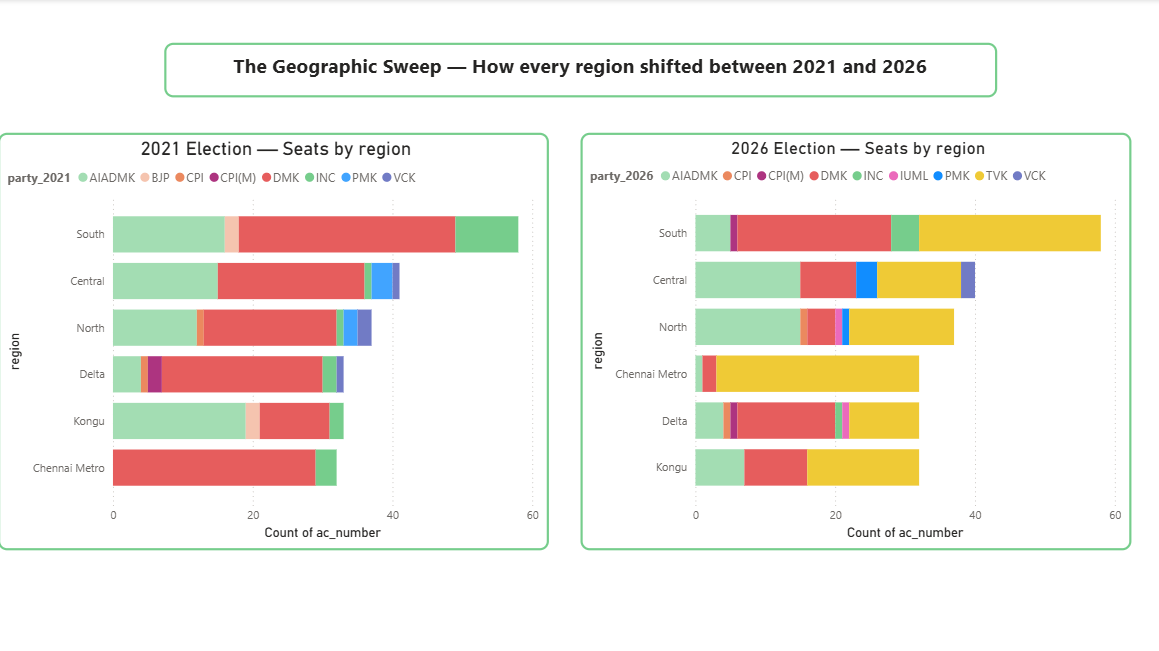

The dashboard page shown, as its layout file describes it:
{"tool":"powerbi","page":{"name":"Geographic Sweep ","canvas":[1280,720],"ordinal":2},"visuals":[{"type":"barChart","title":"2026 Election — Seats by region","fields":{"Category":["tn_master.region"],"Y":["Count(tn_master.ac_number)"],"Series":["tn_master.party_2026"]},"box":[639.5,146.8,605.1,458.3],"z":0},{"type":"barChart","title":"2021 Election — Seats by region","fields":{"Category":["tn_master.region"],"Y":["Count(tn_master.ac_number)"],"Series":["tn_master.party_2021"]},"box":[0,146.8,605.1,458.3],"z":1000},{"type":"textbox","box":[182.9,48.6,914.3,60],"z":2000}]}

Visuals, with their boxes in screenshot pixels (x1, y1, x2, y2), scaled from the page's 1280x720 canvas onto the 1159x651 screenshot:
"2026 Election — Seats by region" barChart: x1=579 y1=133 x2=1127 y2=547
"2021 Election — Seats by region" barChart: x1=0 y1=133 x2=548 y2=547
textbox: x1=166 y1=44 x2=993 y2=98
